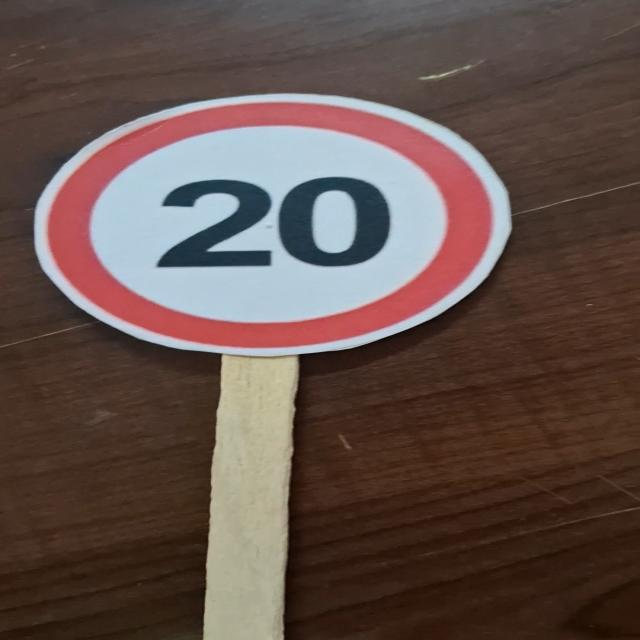Speed20: (32, 92, 522, 362)
